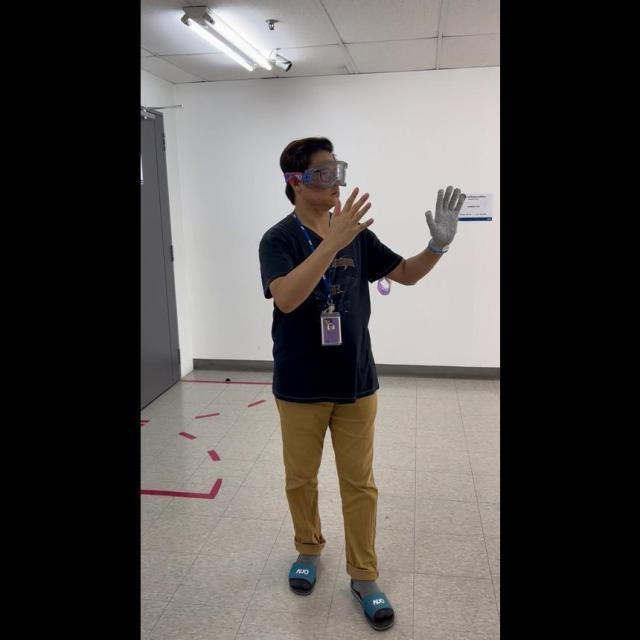bare_hand: (319, 179, 374, 247)
gloved_hand: (422, 182, 465, 251)
